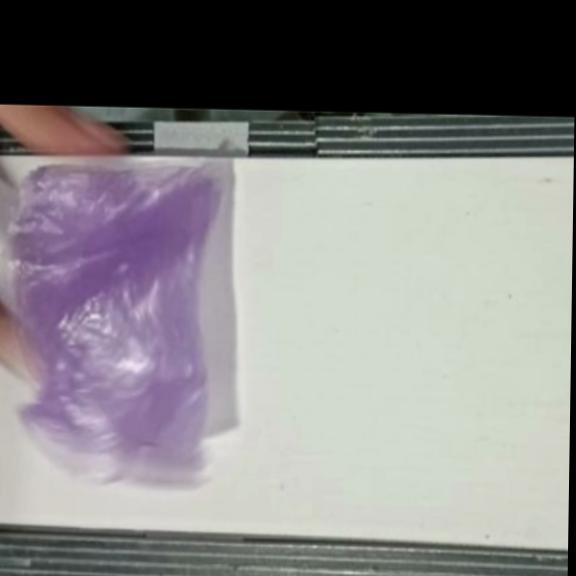Plastik: (0, 154, 225, 492)
